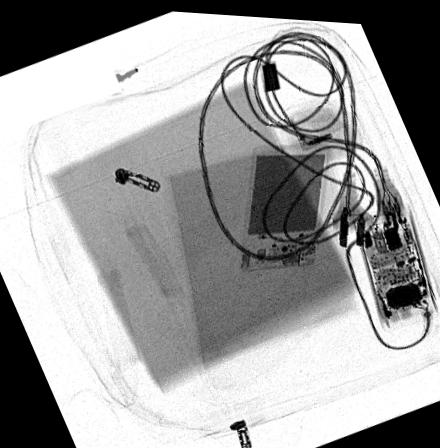Powerbank: (236, 137, 332, 269)
